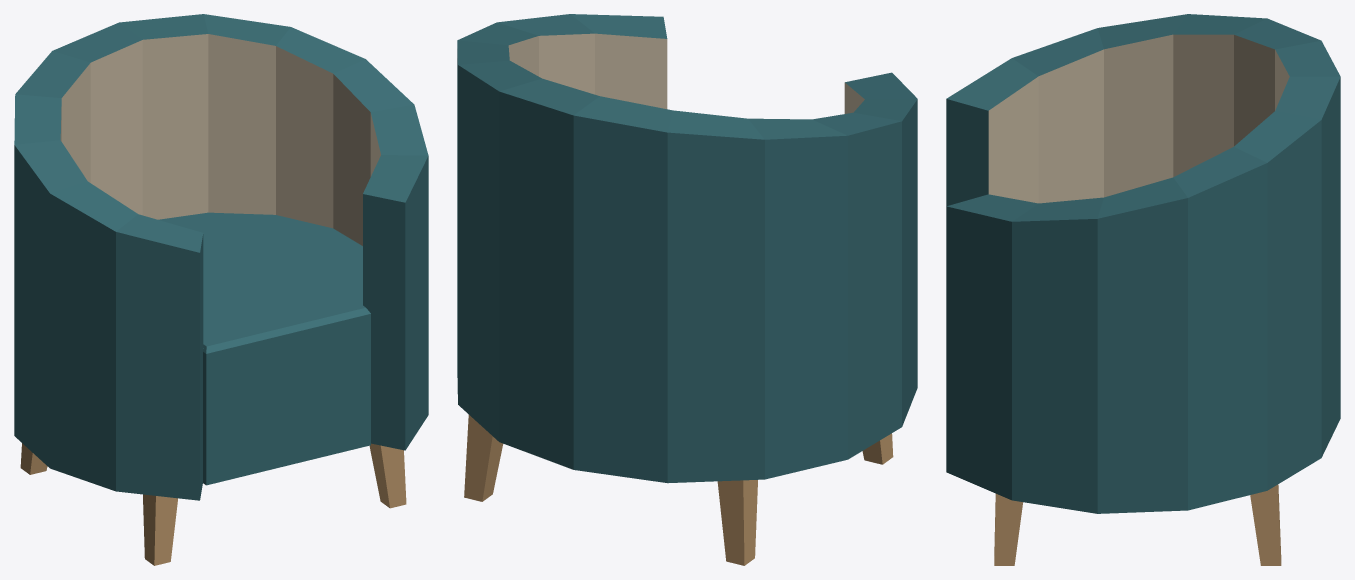
File: FN_Chair_Tub.obj
3 renders of one model, left to right at view 1: azimuth 30°, elevation 25°; view 2: azimuth 150°, elevation 25°; view 3: azimuth 270°, elevation 25°, orthographic. The views are drawn at different scales.
Visible parts, largest first — view 1: FN_Chair_Tub; view 2: FN_Chair_Tub; view 3: FN_Chair_Tub.
Boxes of the visible parts, box(x1,y1,x2,y2) form: FN_Chair_Tub: box(14, 14, 428, 565); FN_Chair_Tub: box(457, 14, 917, 565); FN_Chair_Tub: box(946, 14, 1340, 565).
Size of the model in its own units: 0.7538 by 0.78 by 0.6585.
Materials: 1 (1 with a texture image).
